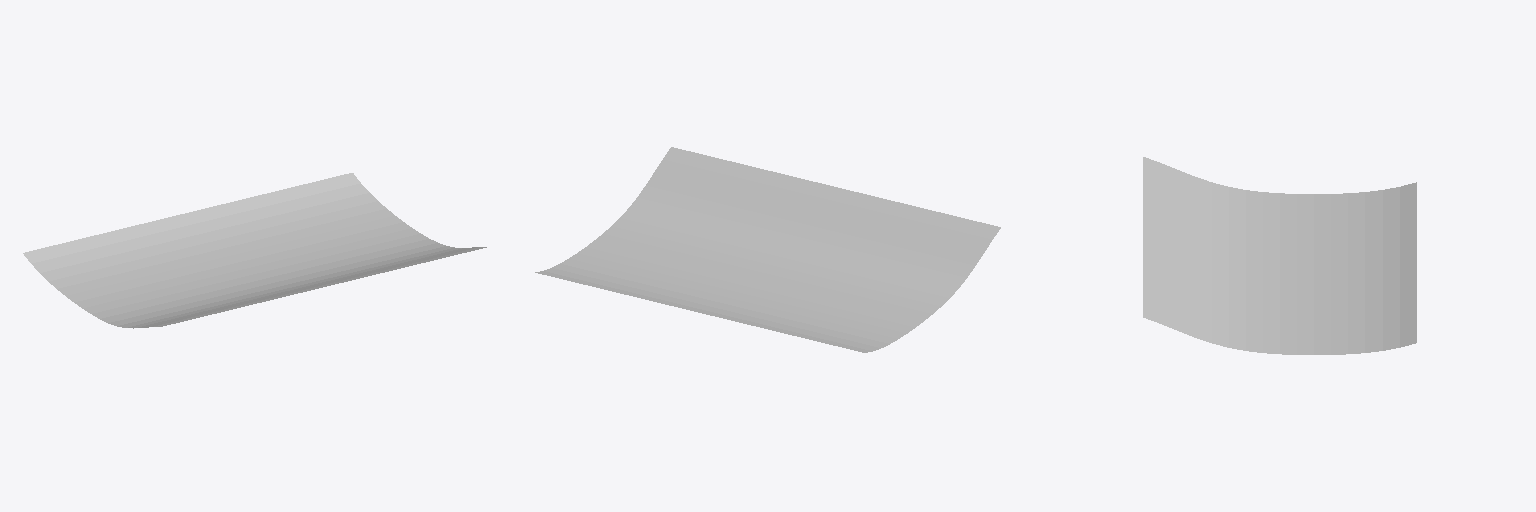
Rendered from Olas7.obj.
3 renders of one model, left to right at view 1: azimuth 30°, elevation 25°; view 2: azimuth 150°, elevation 25°; view 3: azimuth 270°, elevation 25°, orthographic.
Visible parts, largest first — view 1: Plane; view 2: Plane; view 3: Plane.
Boxes of the visible parts, x1=… form: Plane: x1=23, y1=173, x2=486, y2=328; Plane: x1=535, y1=147, x2=1000, y2=352; Plane: x1=1143, y1=157, x2=1416, y2=354.
Bounding box in the file's own units: 13.82 × 1.51 × 9.91.